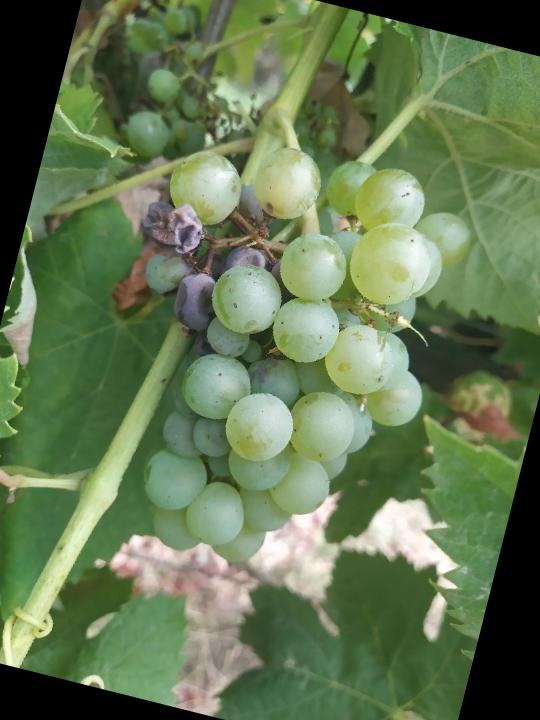grape: (63, 106, 479, 603)
